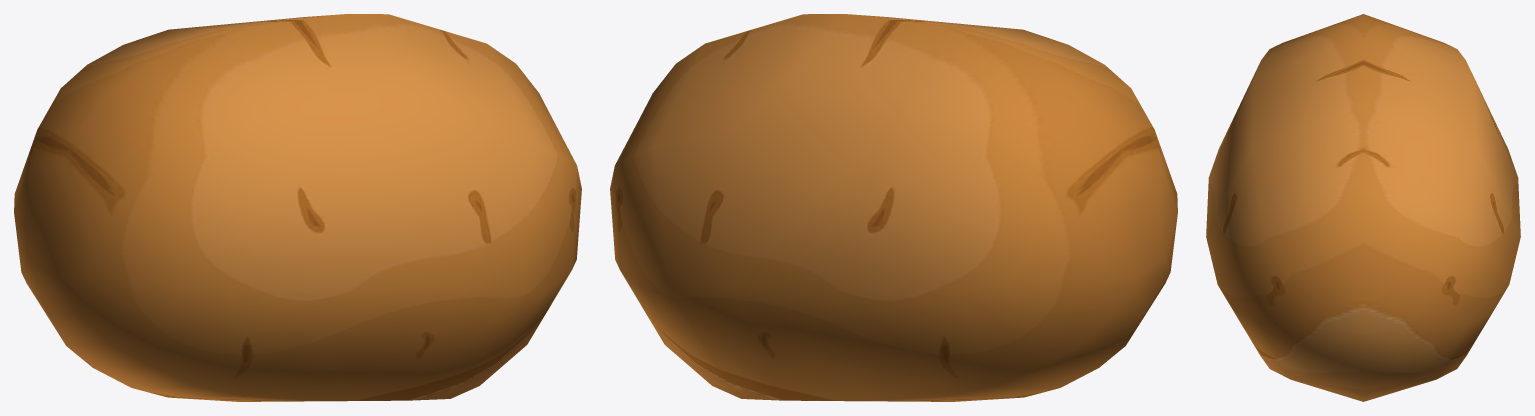
Rendered from potato.glb.
3 views of the same model, side by side, from view 1: azimuth 30°, elevation 25°; view 2: azimuth 150°, elevation 25°; view 3: azimuth 270°, elevation 25° (orthographic). The views are drawn at different scales.
Size of the model in its own units: 0.5182 by 0.3845 by 0.3625.
1 material, 1 textured.
